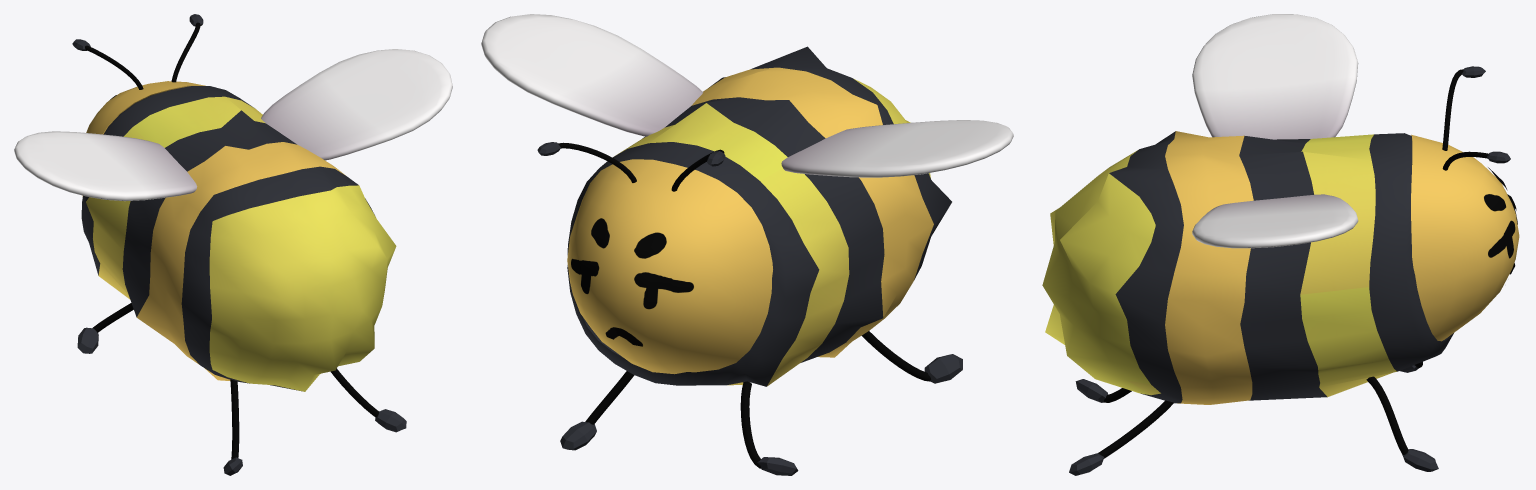
The model's file is bumblebee.glb.
3 renders of one model, left to right at view 1: azimuth 30°, elevation 25°; view 2: azimuth 150°, elevation 25°; view 3: azimuth 270°, elevation 25°, orthographic. The views are drawn at different scales.
Parts seen in each view (by area): view 1: Cube, Plane, BézierCurve, Cube.001, Cube.002; view 2: Cube, Cube.001, Plane, BézierCurve, BumblebeeEyes, Cube.002; view 3: Cube, Plane, Cube.001, BézierCurve, Cube.002, BumblebeeEyes.
Part boxes in pixels (left/top/right/bottom): Cube: left=81, top=86, right=396, bottom=391; Plane: left=14, top=49, right=452, bottom=201; BézierCurve: left=85, top=22, right=378, bottom=459; Cube.001: left=82, top=81, right=205, bottom=196; Cube.002: left=72, top=14, right=406, bottom=475; Cube: left=567, top=46, right=951, bottom=386; Cube.001: left=567, top=159, right=772, bottom=374; Plane: left=481, top=14, right=1013, bottom=177; BézierCurve: left=558, top=142, right=930, bottom=468; BumblebeeEyes: left=571, top=218, right=693, bottom=309; Cube.002: left=537, top=142, right=962, bottom=475; Cube: left=1042, top=131, right=1453, bottom=404; Plane: left=1192, top=14, right=1358, bottom=248; Cube.001: left=1411, top=134, right=1519, bottom=341; BézierCurve: left=1098, top=69, right=1488, bottom=458; Cube.002: left=1069, top=66, right=1510, bottom=475; BumblebeeEyes: left=1484, top=167, right=1517, bottom=258.
Size of the model in its own units: 4.56 by 3.19 by 4.03.
Materials: 4 (3 with a texture image).
